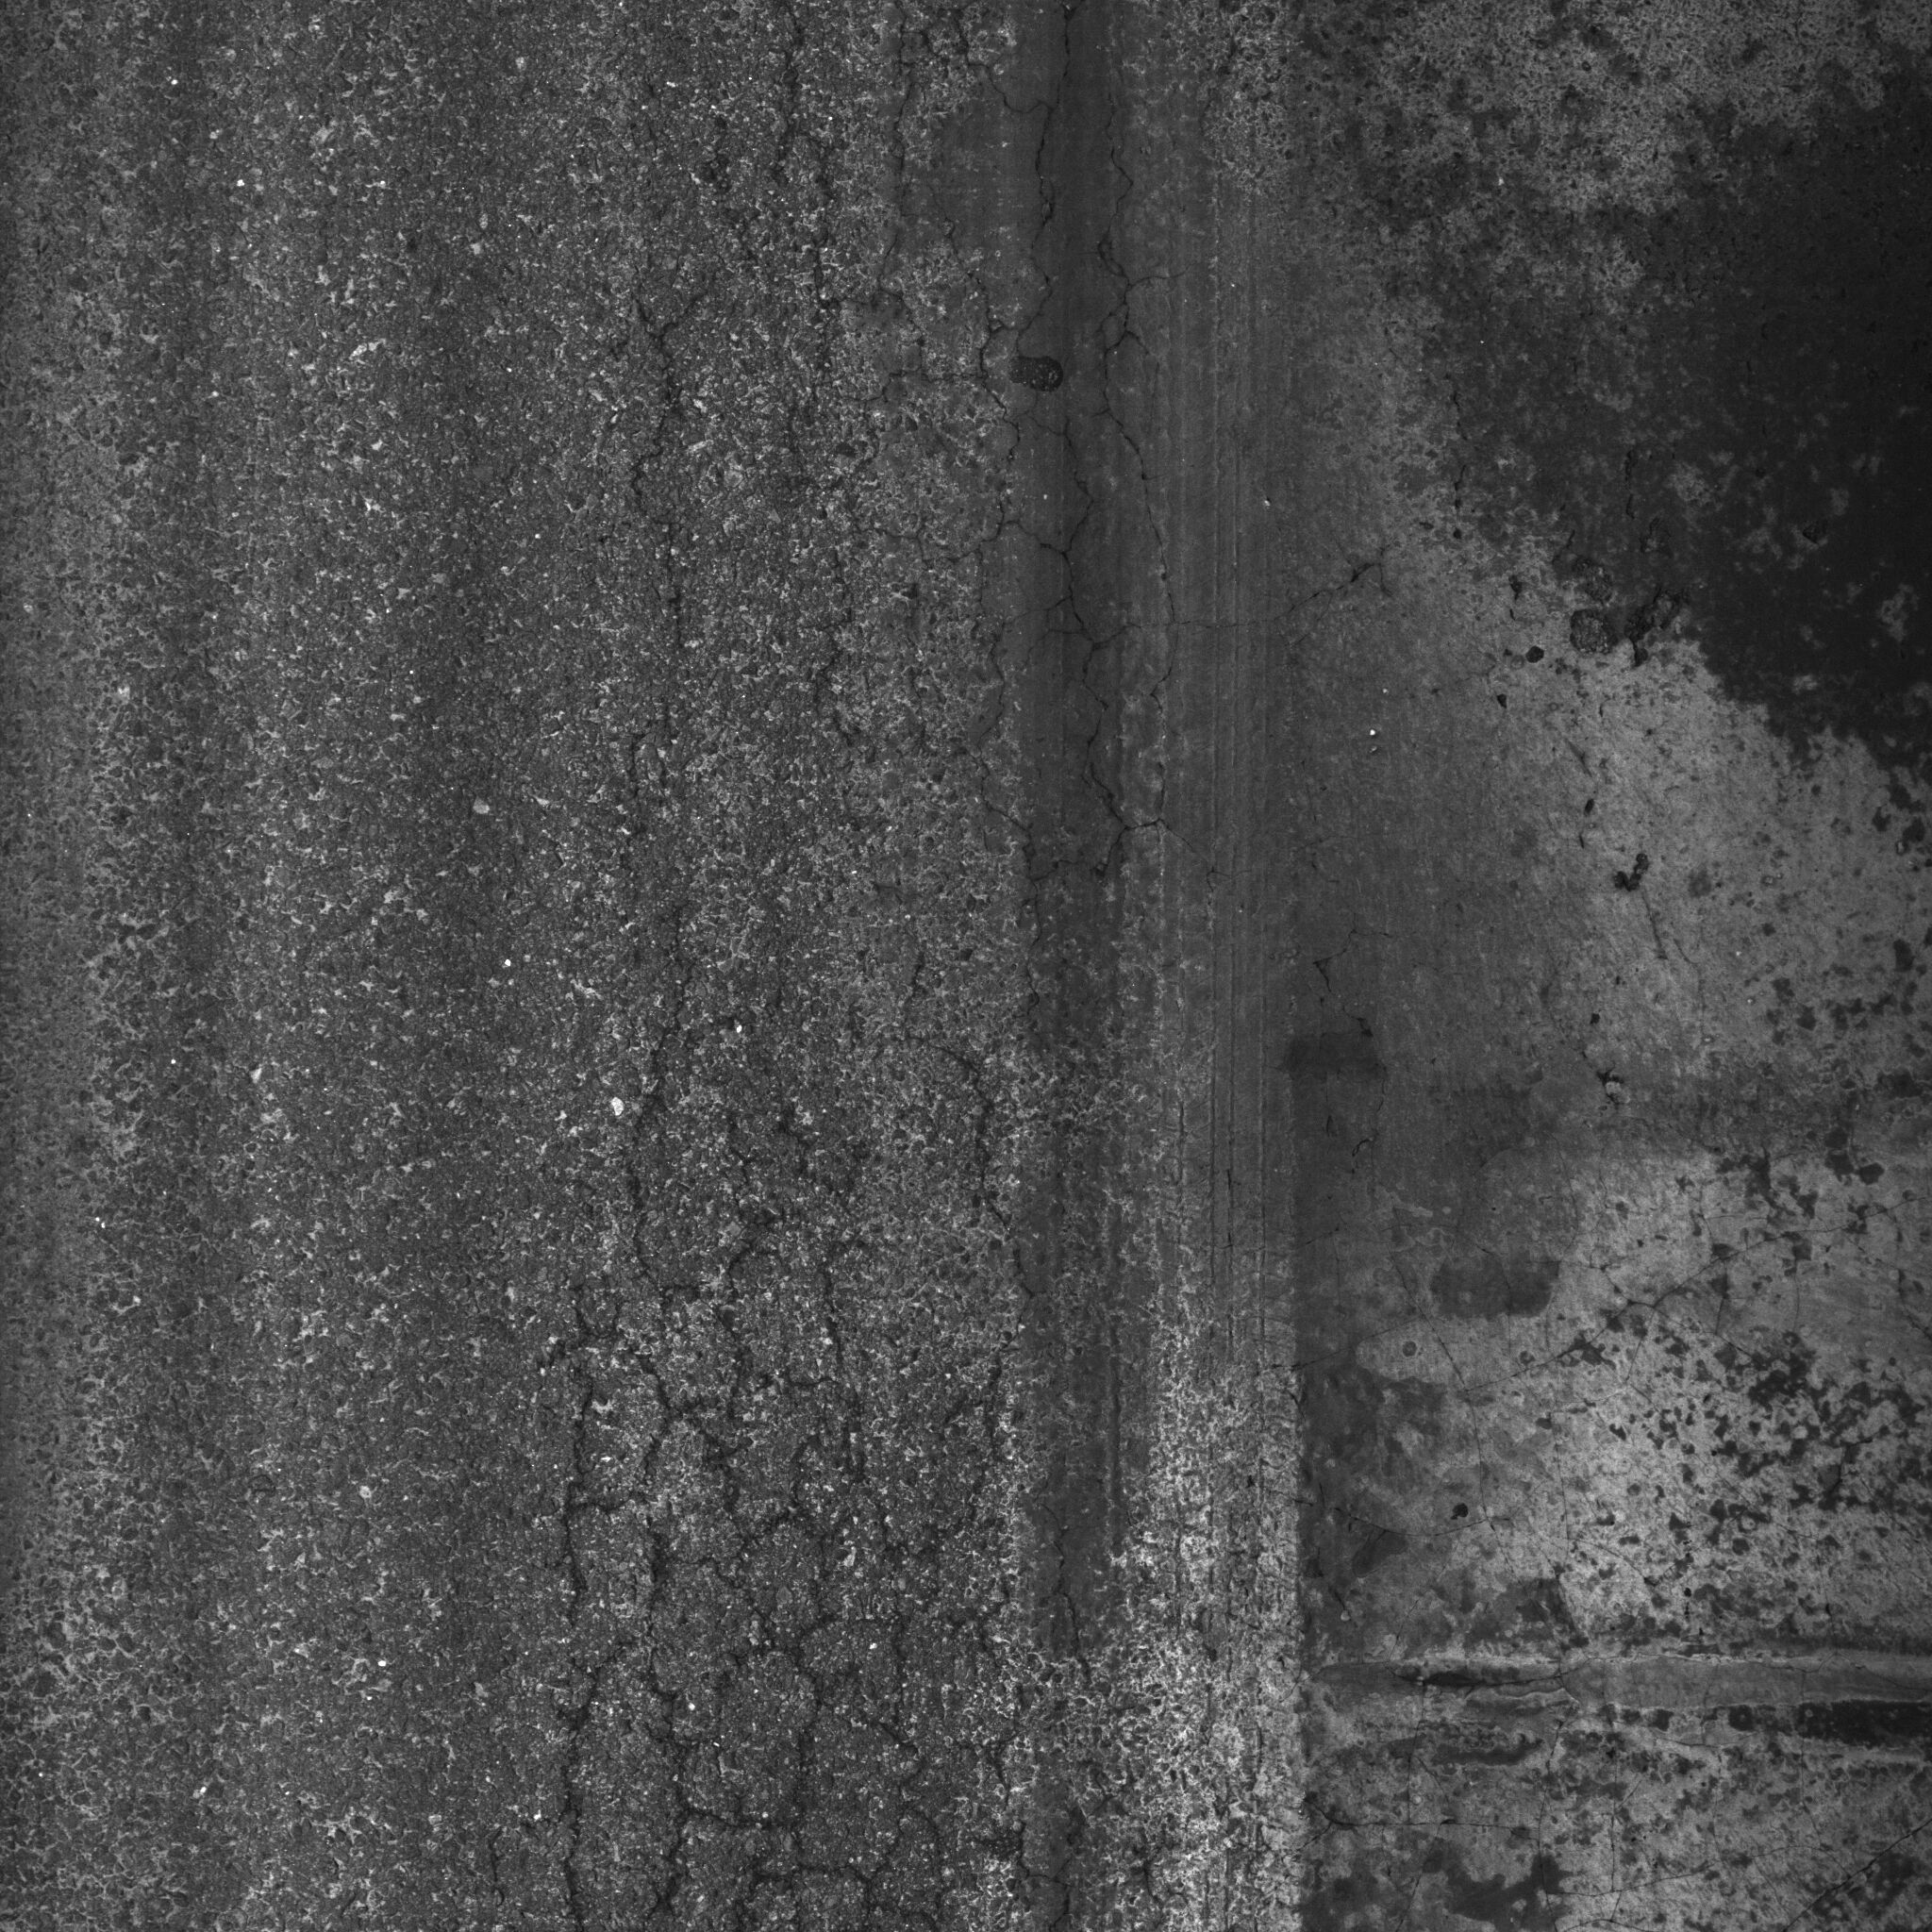alligator: (536, 12, 1353, 1932)
